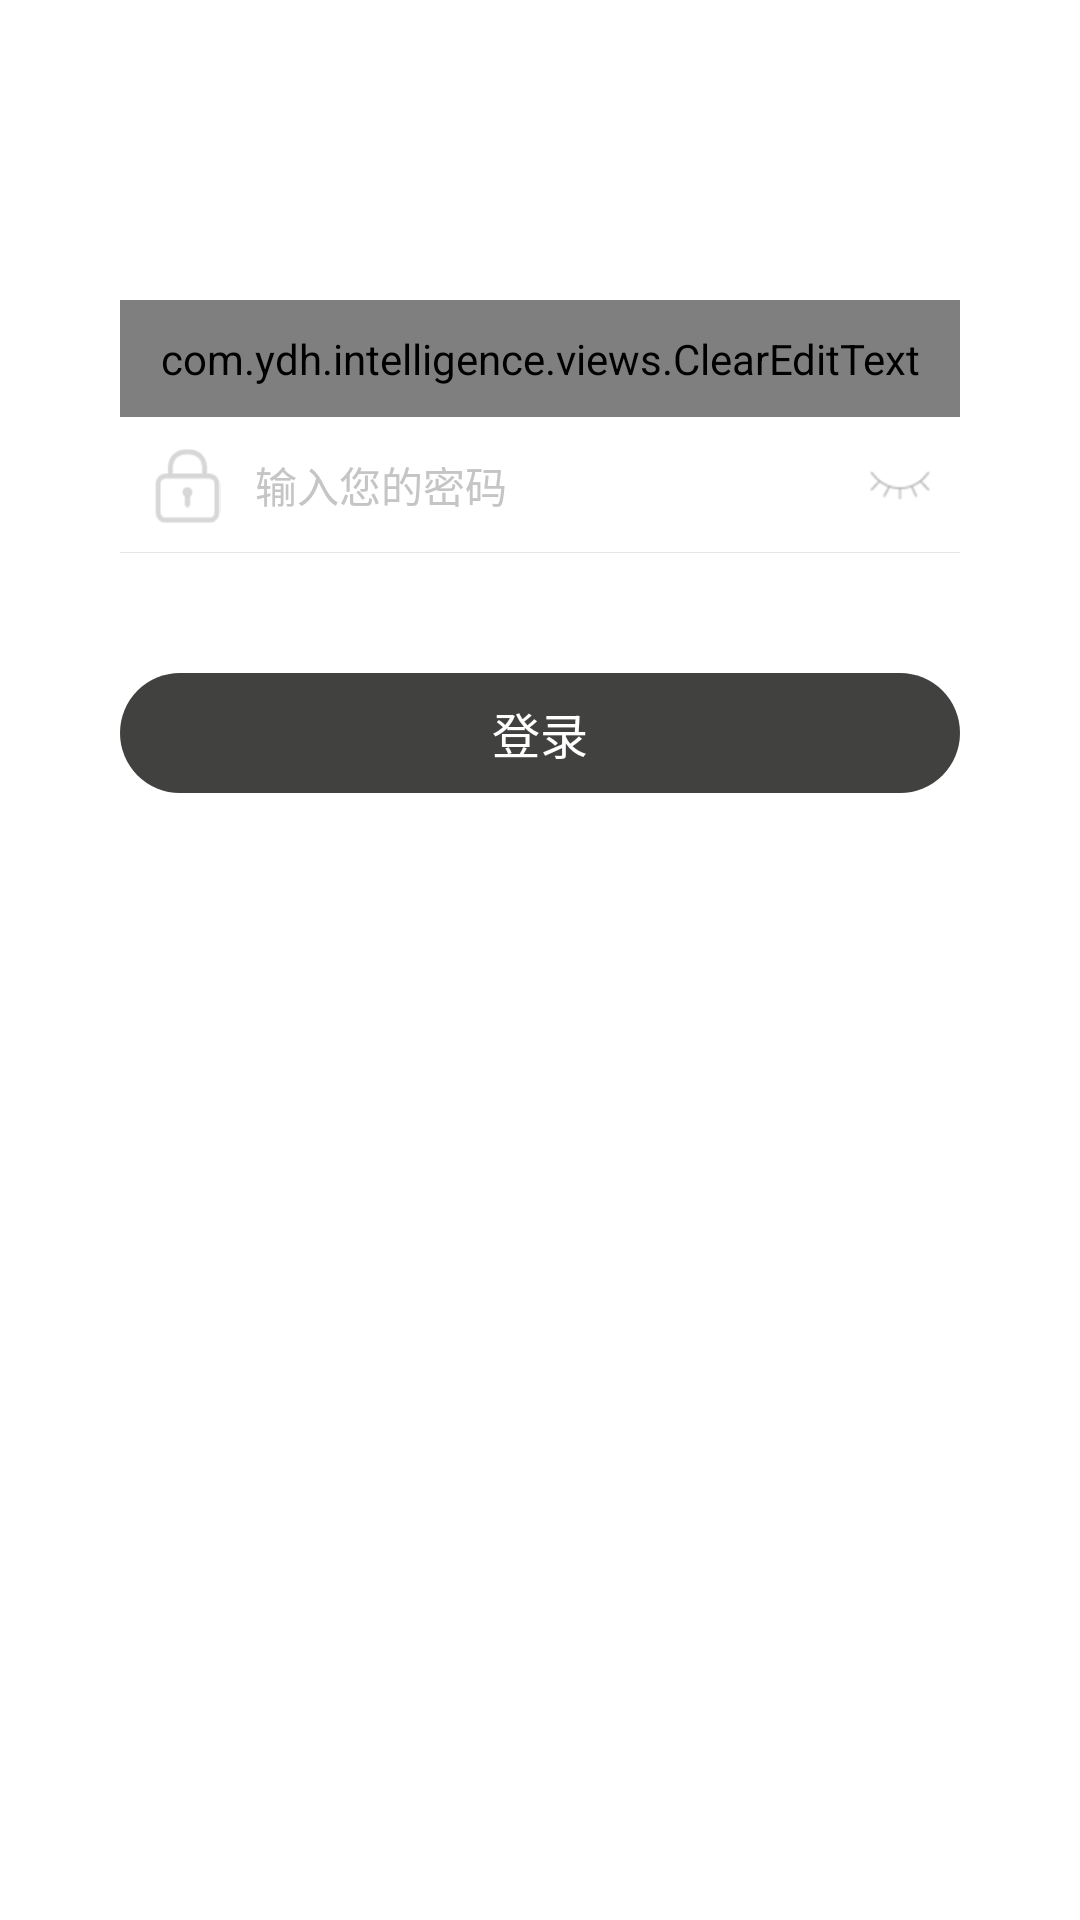

Named icons in this screenshot (1080px x 1920px) and their centers, [x,y]:
close eye: [900,485]
